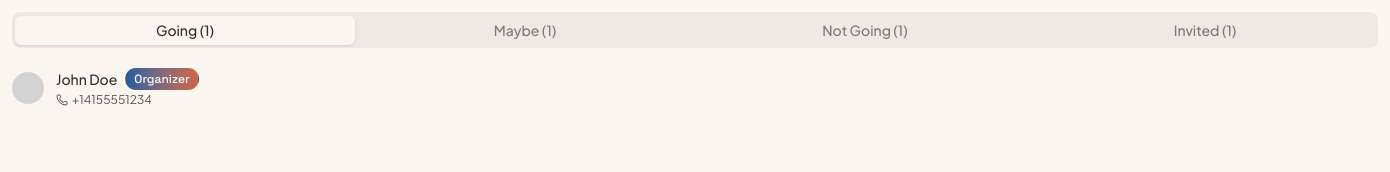
Test case: MembersList › Invited tab content › renders no_response members in Invited tab
Click the tab "Invited (1)": coordinates (1205, 30) top-left (1035, 16), bottom-right (1375, 44)
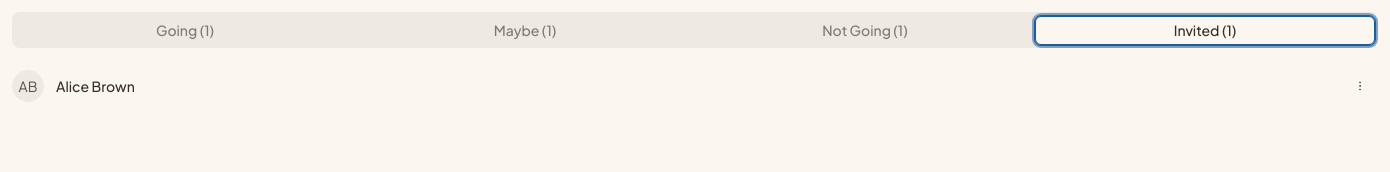
Now the text "Alice Brown" is shown, box top-left (56, 76), bottom-right (135, 96)
